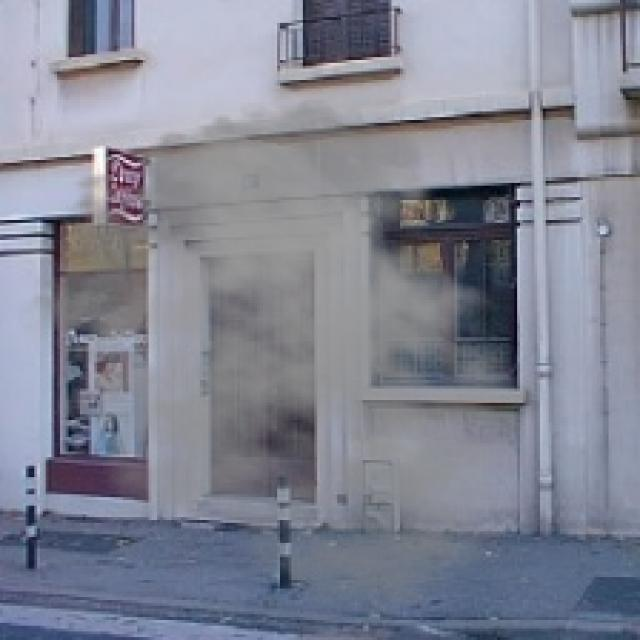smoke: (11, 91, 568, 614)
